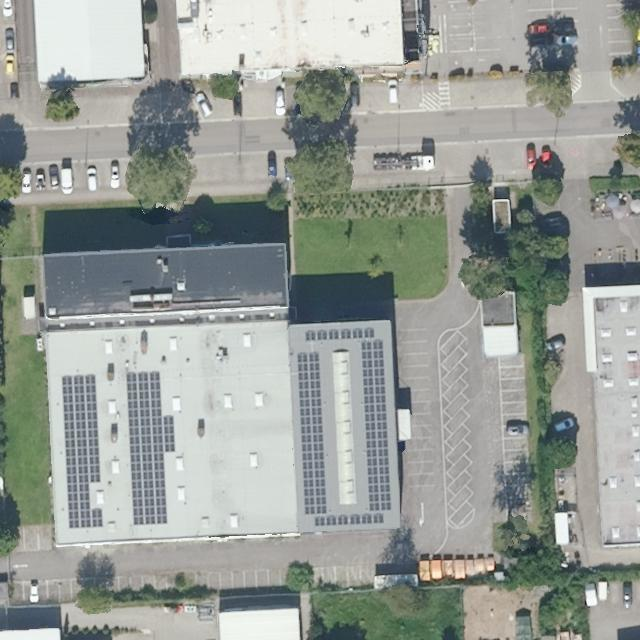PV: (124, 369, 179, 530), (58, 372, 106, 535), (293, 348, 330, 516), (359, 337, 394, 514), (304, 326, 380, 346), (315, 512, 388, 528)
